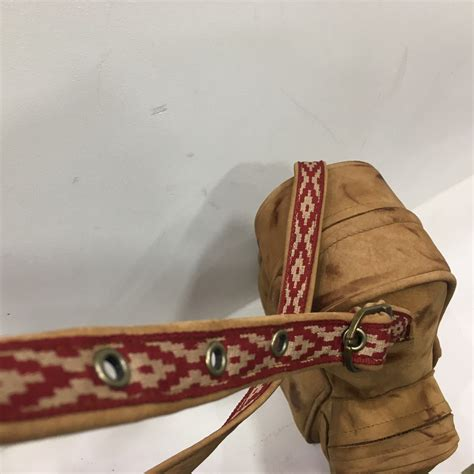cuero: (233, 158, 462, 474)
